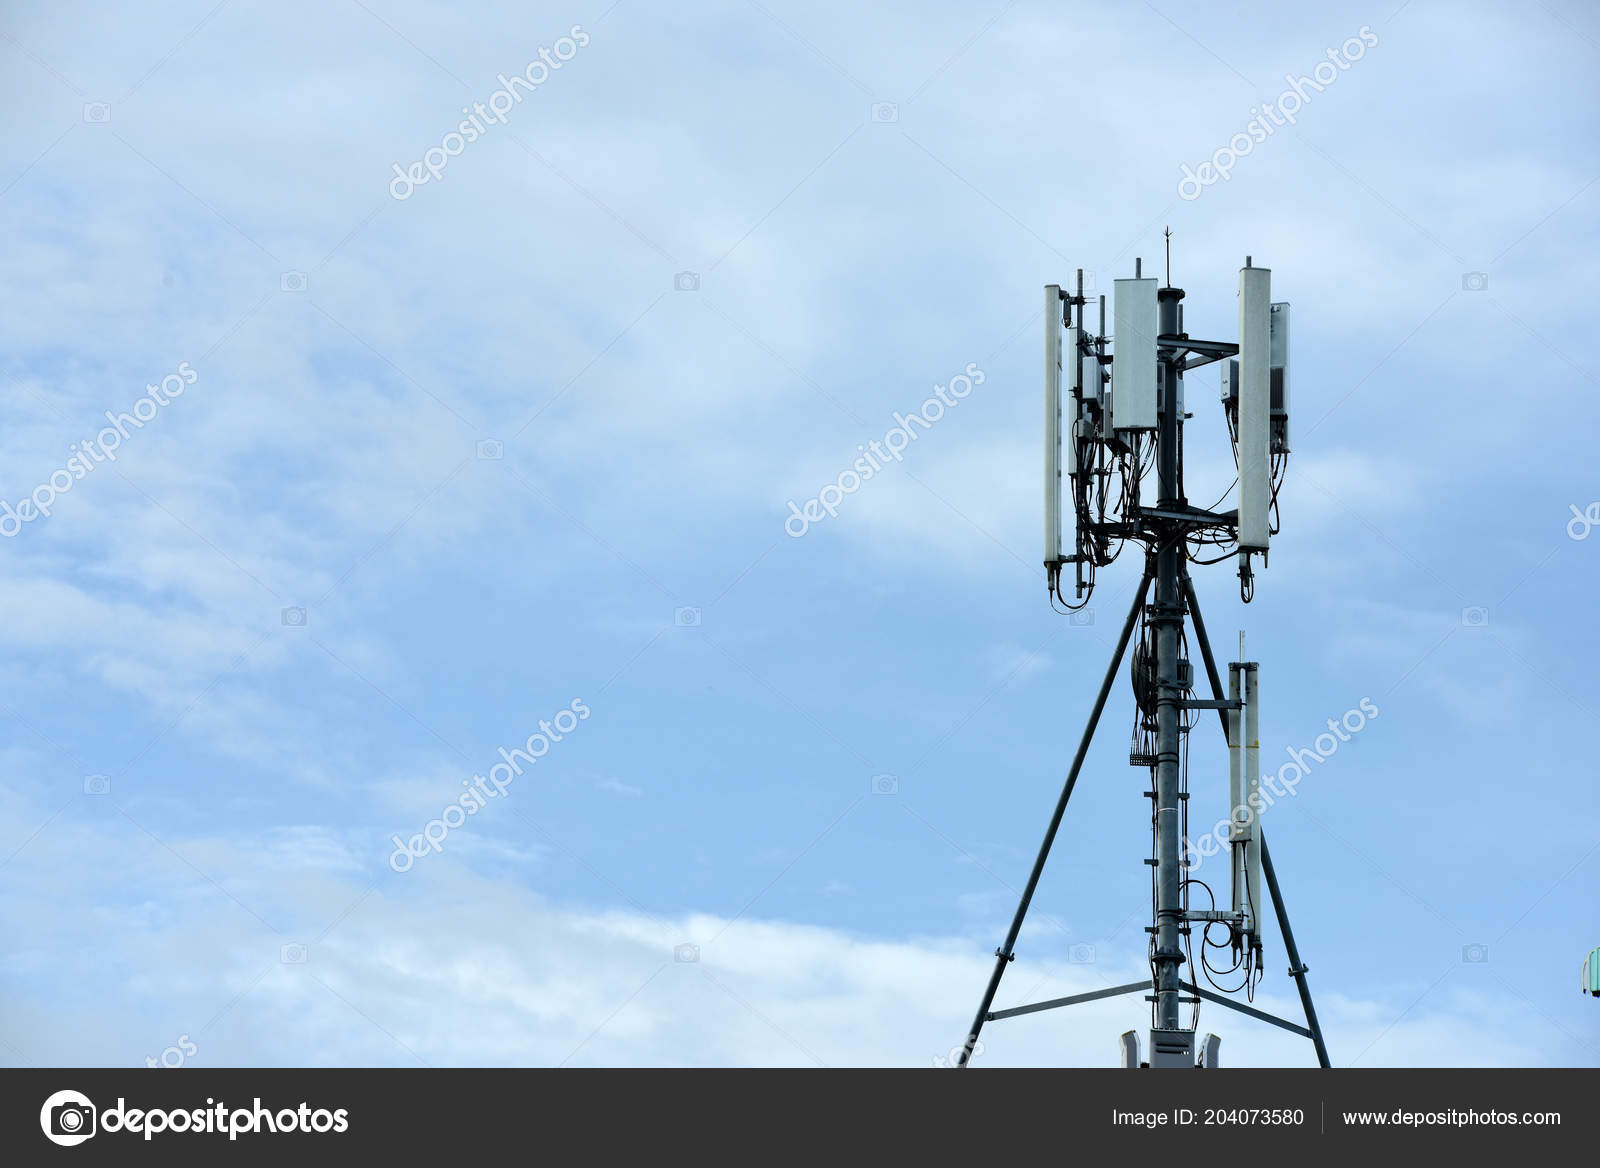a: (1107, 256, 1166, 442), (1237, 257, 1272, 570), (1042, 278, 1066, 575), (1267, 299, 1303, 461)
